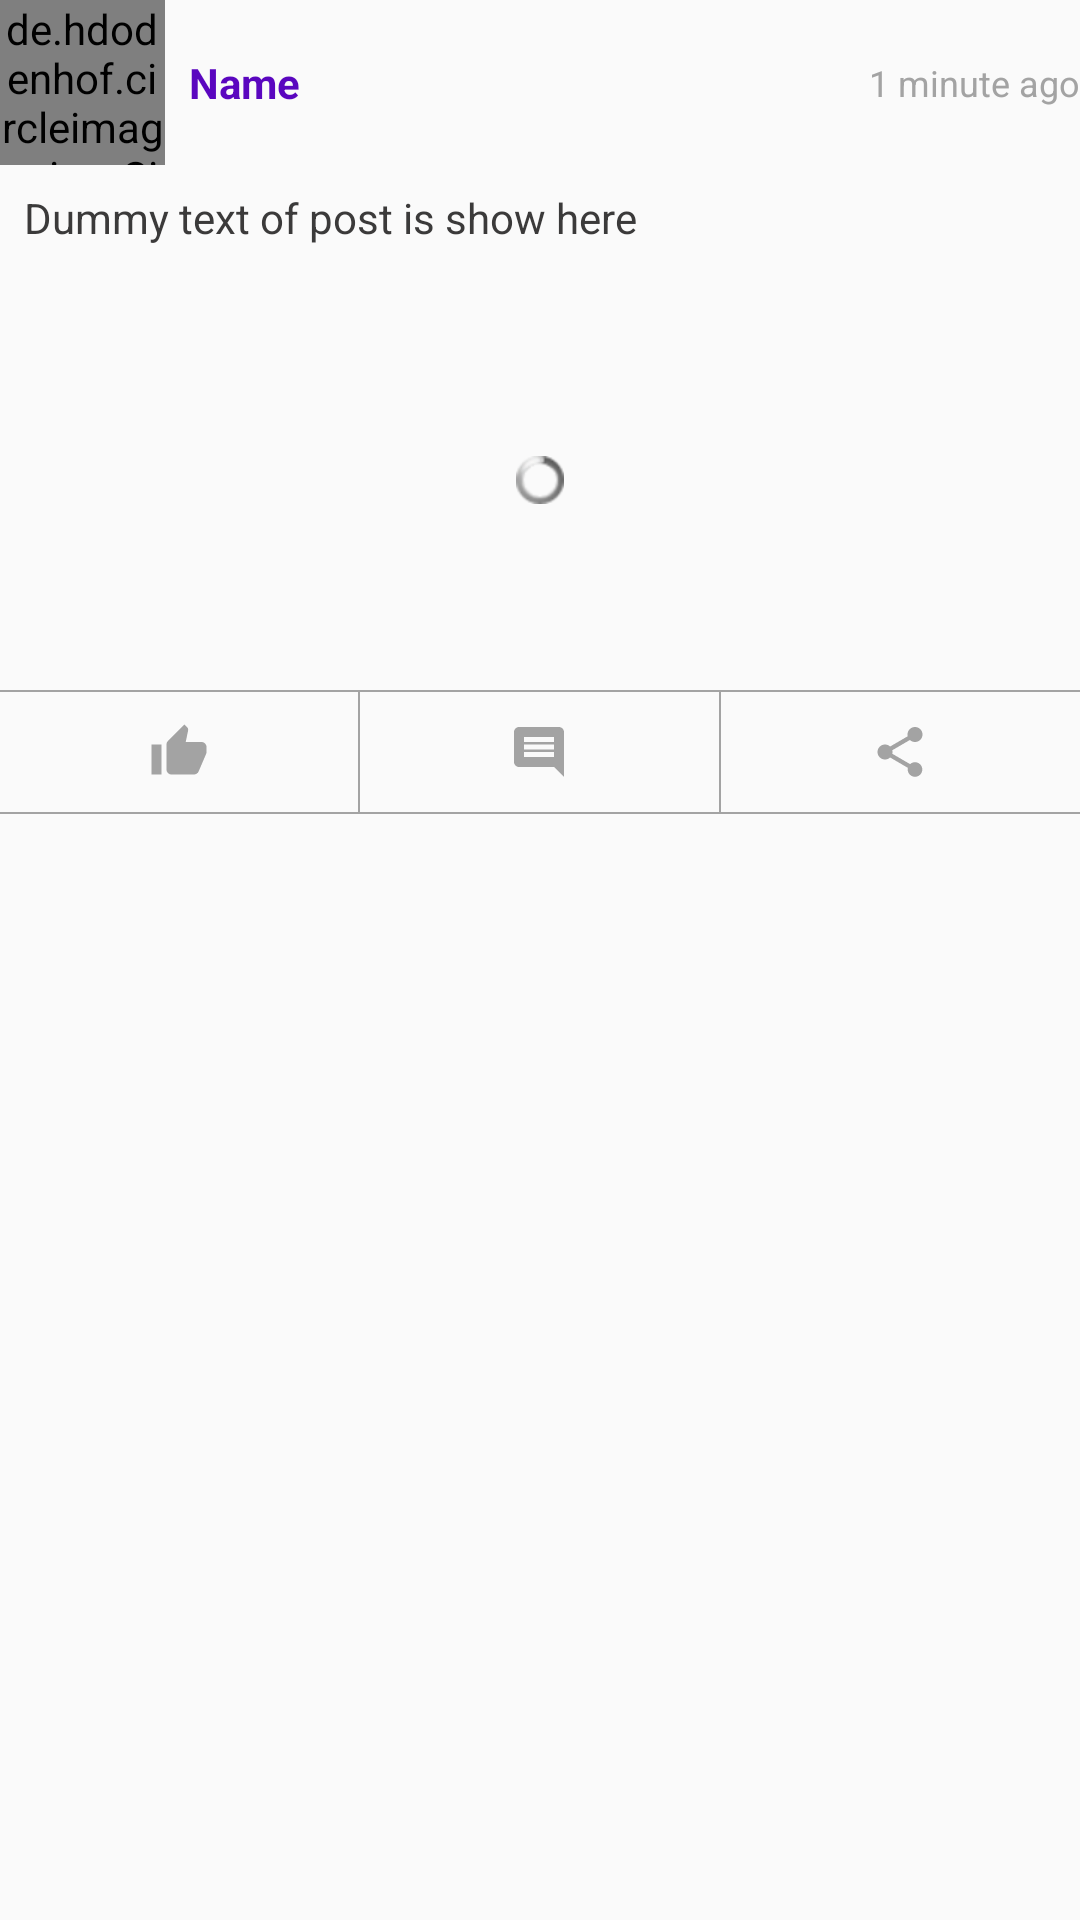

Icons on this 1080 x 1920 Android screen, each with its box as (x1=x1, y1=y1, x2=x2, y2=y2):
comment: (x1=514, y1=727, x2=564, y2=777)
share: (x1=877, y1=727, x2=923, y2=777)
un like: (x1=151, y1=725, x2=207, y2=775)
